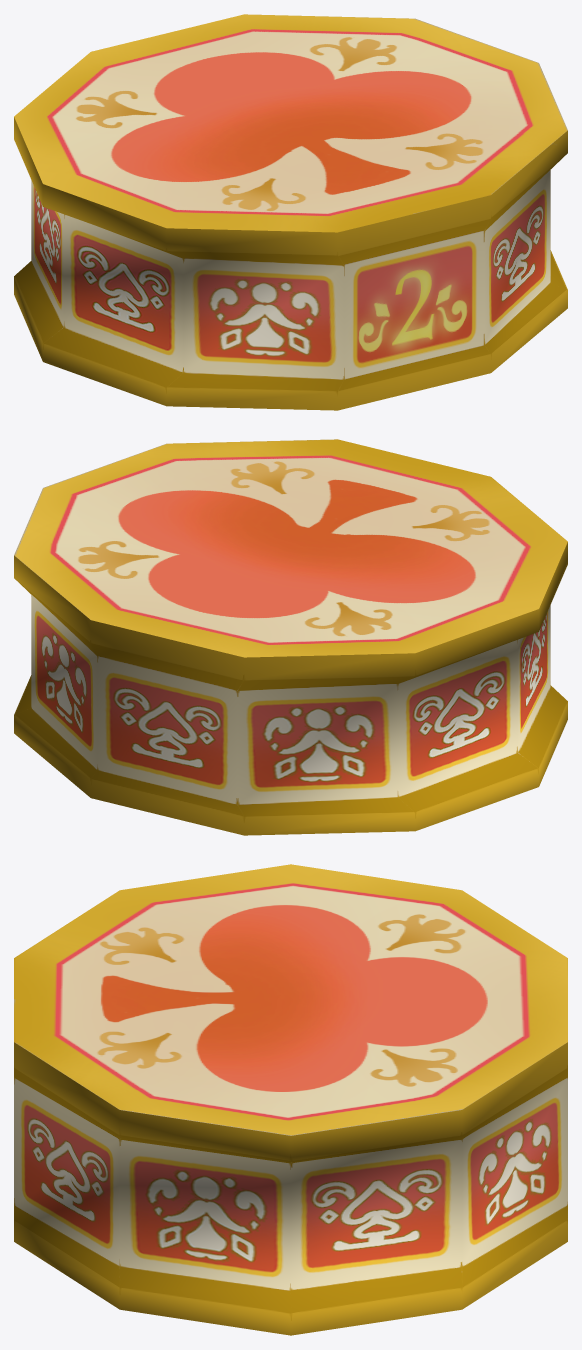
The model's file is LAward22.fbx.
3 views of the same model, one above another, from view 1: azimuth 30°, elevation 25°; view 2: azimuth 150°, elevation 25°; view 3: azimuth 270°, elevation 25° (orthographic). The views are drawn at different scales.
Parts seen in each view (by area): view 1: Cylinder004; view 2: Cylinder004; view 3: Cylinder004.
Part boxes in pixels (x1=…): Cylinder004: x1=14, y1=14, x2=567, y2=410; Cylinder004: x1=14, y1=439, x2=567, y2=835; Cylinder004: x1=14, y1=864, x2=567, y2=1335.
Bounding box in the file's own units: 103 × 35.26 × 88.65.
1 material, 1 textured.
